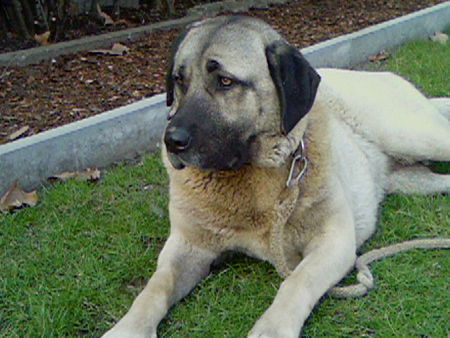kangal: (100, 14, 450, 338)
